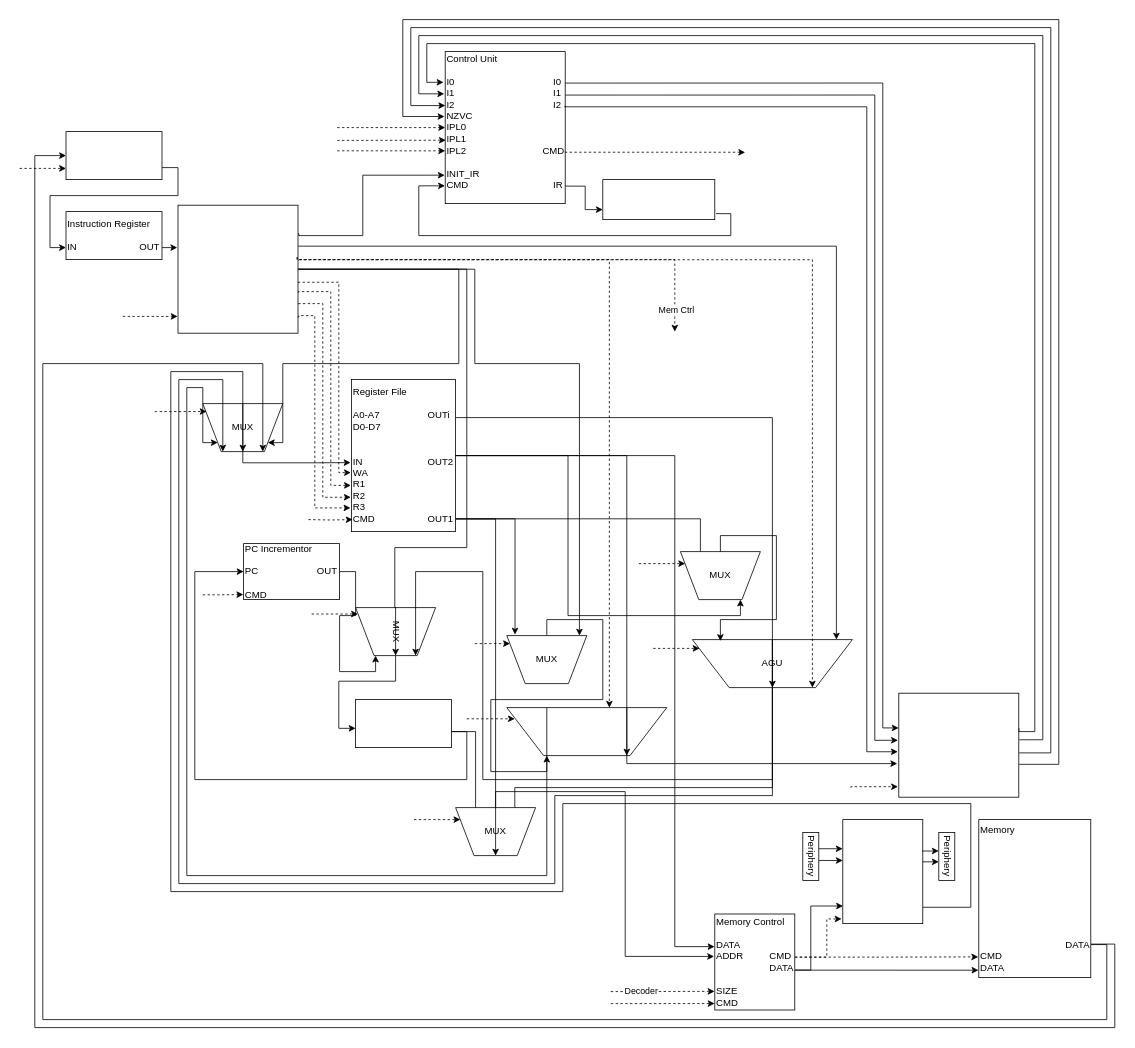
Image size: 1135x1048. Some labels were removed from this diagram. Each missing label, with the centre of its shape:
ALU: (586,731)
Decoder IR INSTR OFF SIZE IMM WA R1 R2 CMD R3: (237,268)
Microcode Memory IR CMD: (658,199)
MMIO Control IN1 OUT 1 INn OUTn DATA DATA CMD: (882,871)
Prefetch Queue HEAD CMD TAIL: (113,155)
Programm Counter PC_next OUT: (403,723)
Status Register I0 I0 I1 I1 I2 I2 NZVC NZVC CMD: (958,744)
